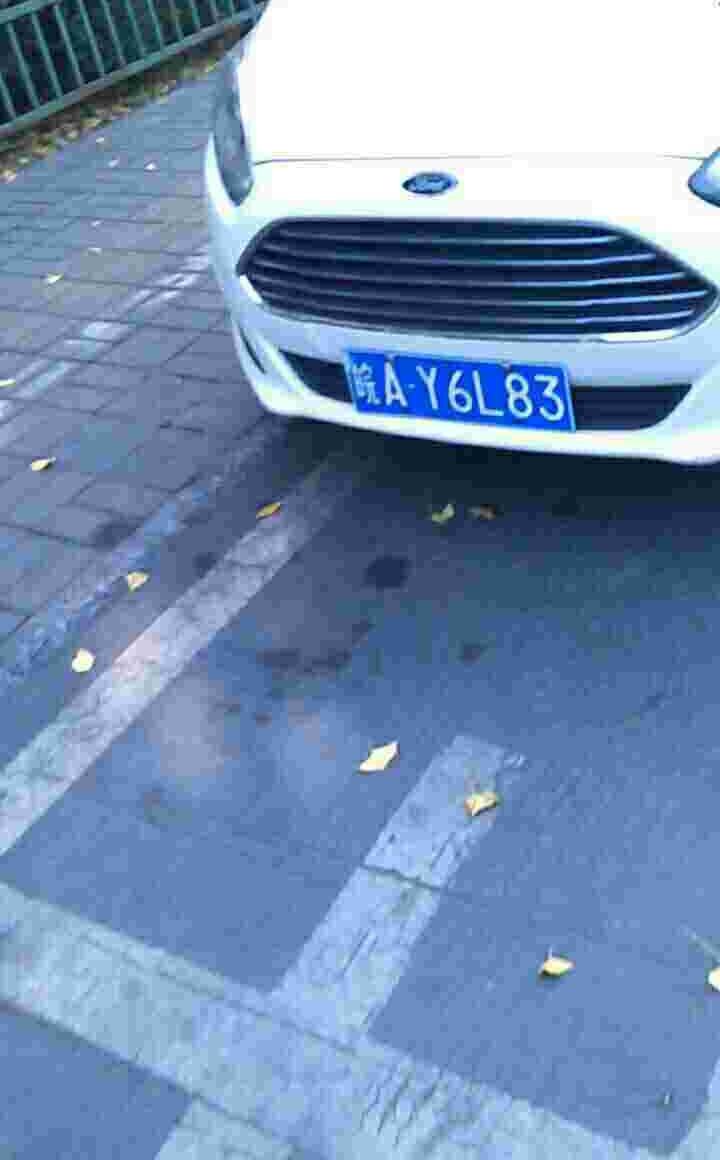license_plate: (339, 343, 579, 442)
